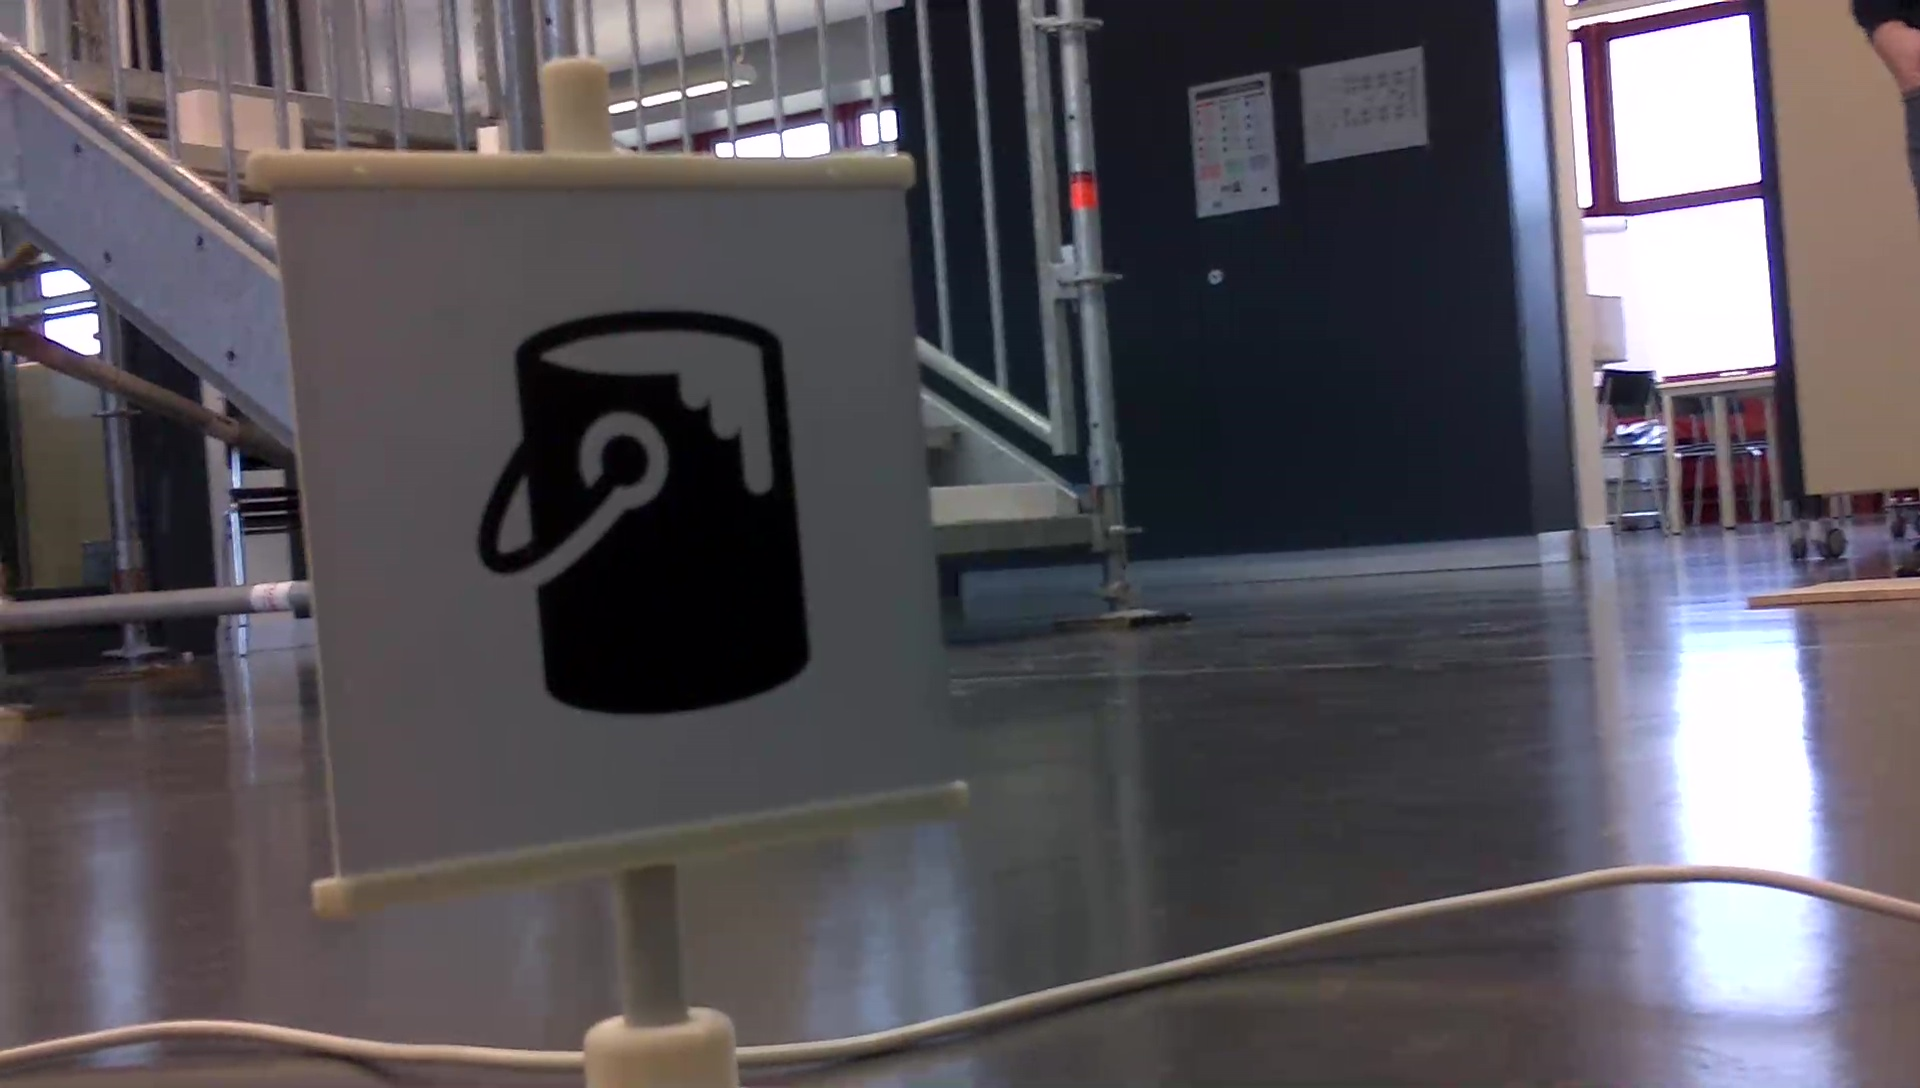brick: (938, 485, 1052, 522)
bucket: (468, 295, 824, 725)
